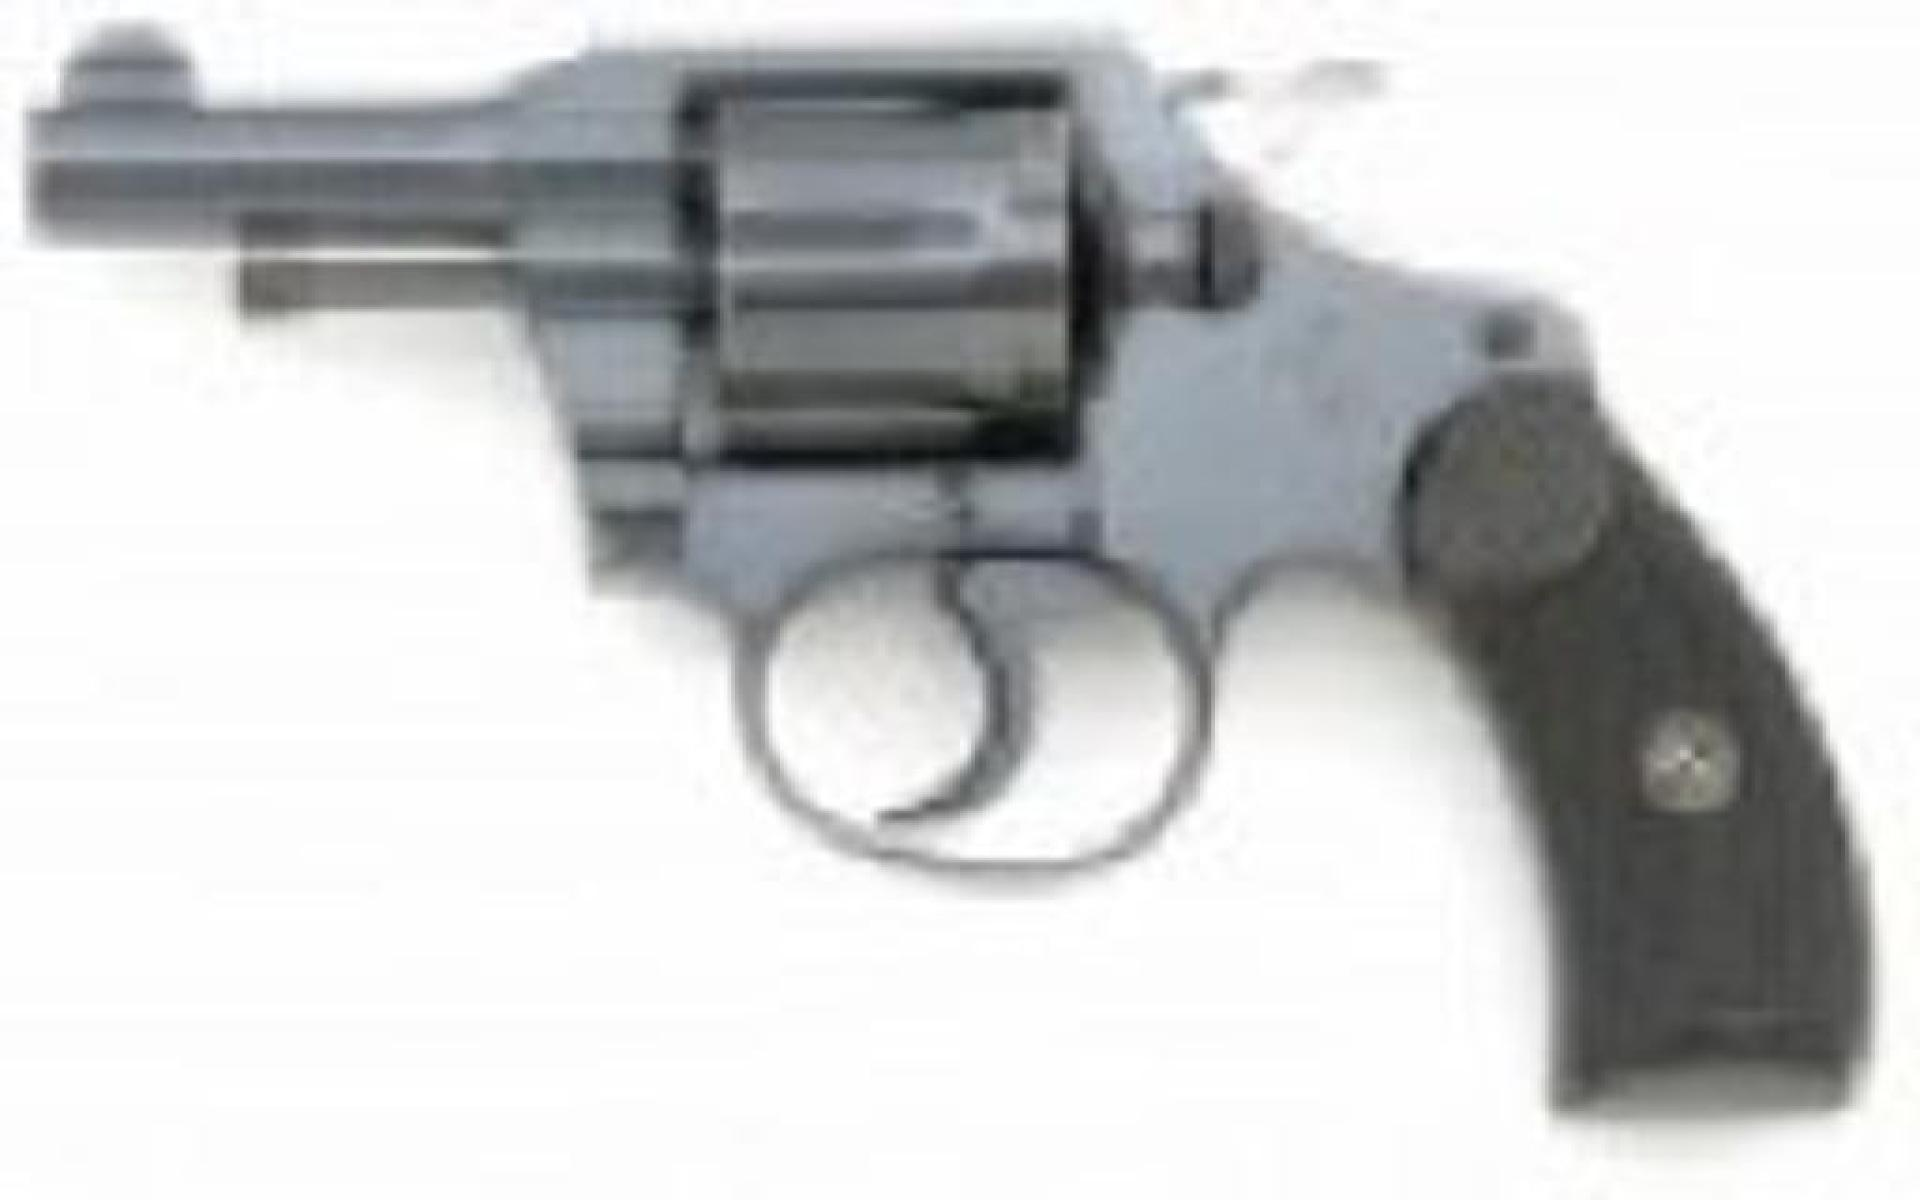gun: (19, 7, 1879, 1116)
